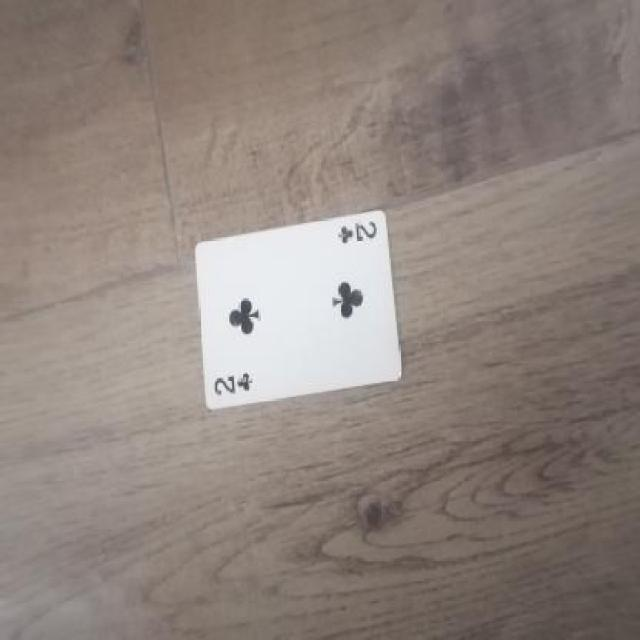2C: (329, 215, 382, 252), (210, 369, 262, 397)
